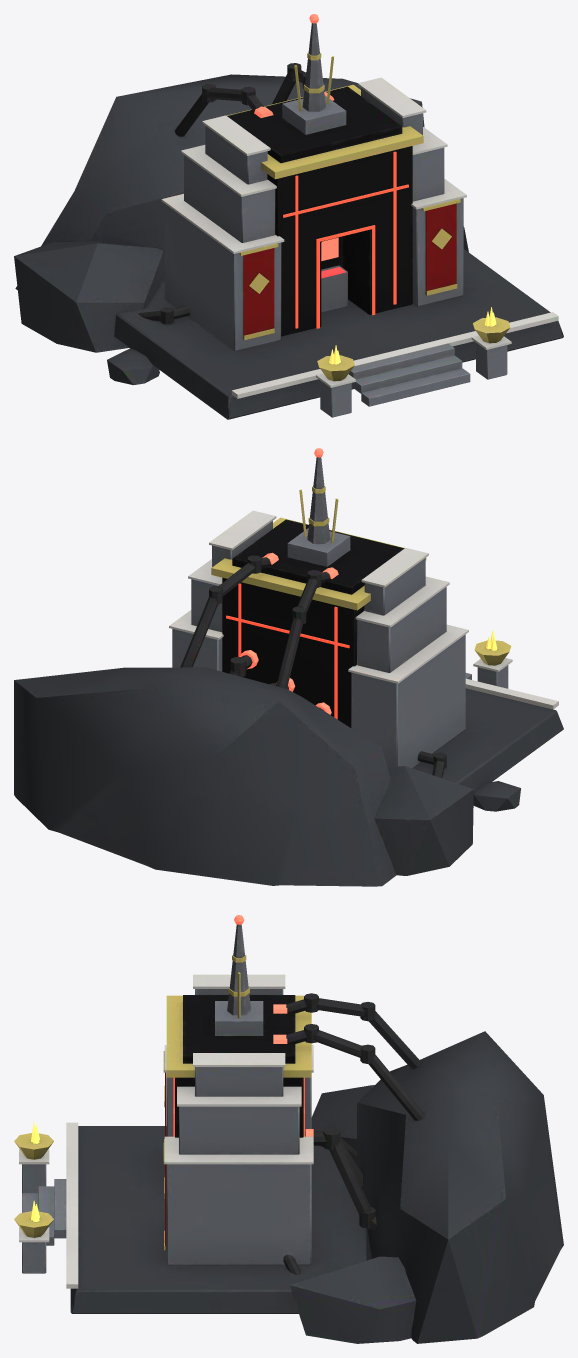
Rendered from relay.glb.
3 views of the same model, one above another, from view 1: azimuth 30°, elevation 25°; view 2: azimuth 150°, elevation 25°; view 3: azimuth 270°, elevation 25° (orthographic). The views are drawn at different scales.
Parts seen in each view (by area): view 1: hull, lights; view 2: hull, lights; view 3: hull, lights.
Part boxes in pixels (x1=…): hull: x1=14, y1=23, x2=563, y2=419; lights: x1=254, y1=14, x2=496, y2=364; hull: x1=14, y1=457, x2=563, y2=886; lights: x1=226, y1=448, x2=497, y2=719; hull: x1=14, y1=924, x2=563, y2=1343; lights: x1=31, y1=915, x2=313, y2=1221.
Size of the model in its own units: 12.49 by 8.93 by 13.68.
Materials: 12 (8 with a texture image).
